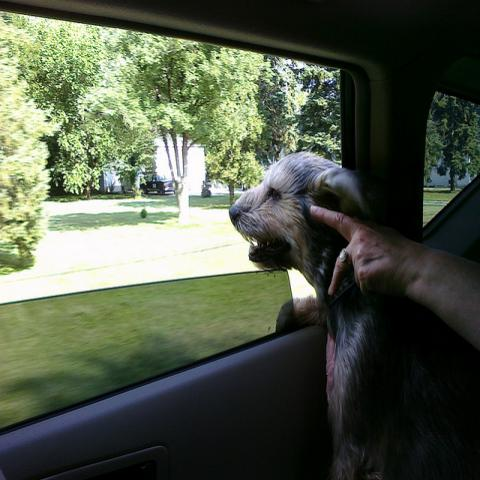truck: (140, 174, 174, 194)
